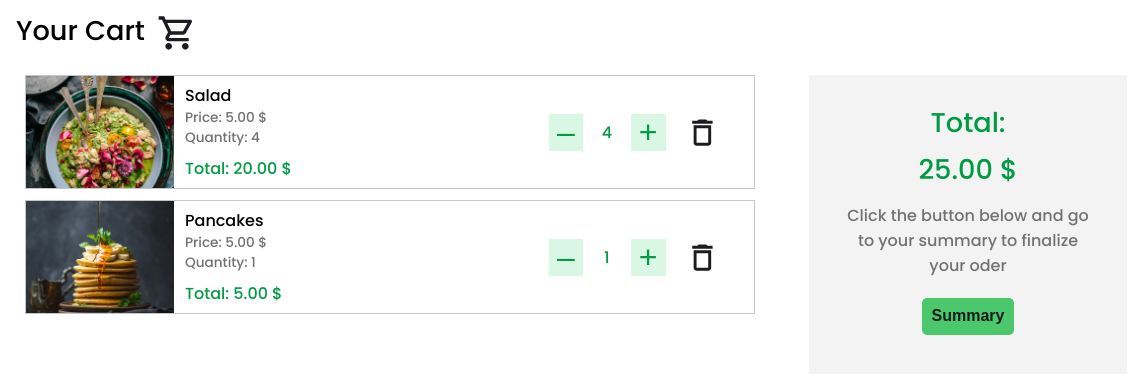
Scenario: deleted item
The image size is (1144, 391).
Click the 2nd icon at {"x": 702, "y": 132}, box [666,115,738,150]
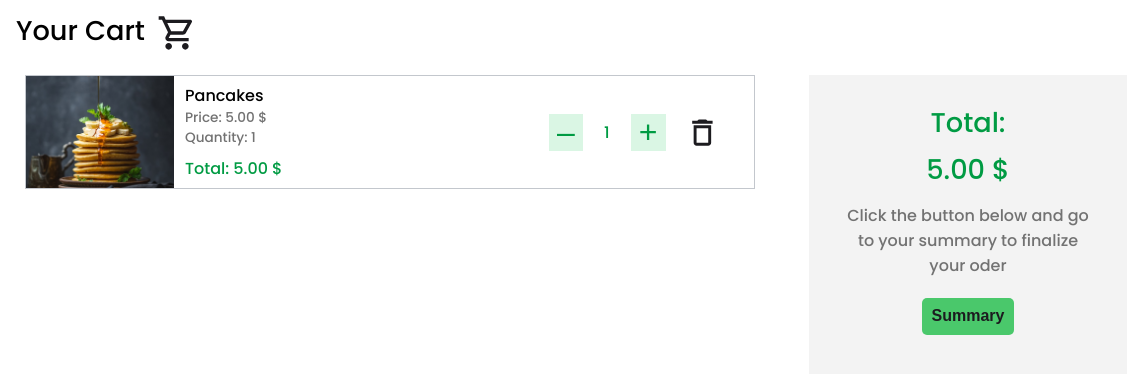
Check: the number of elements with test id "cart-item" is 1, box [25,75,755,189]
